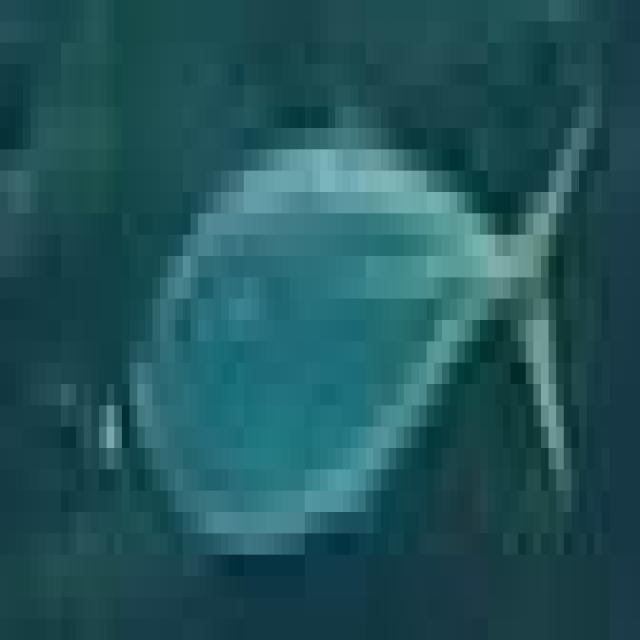fish: (0, 21, 633, 639)
